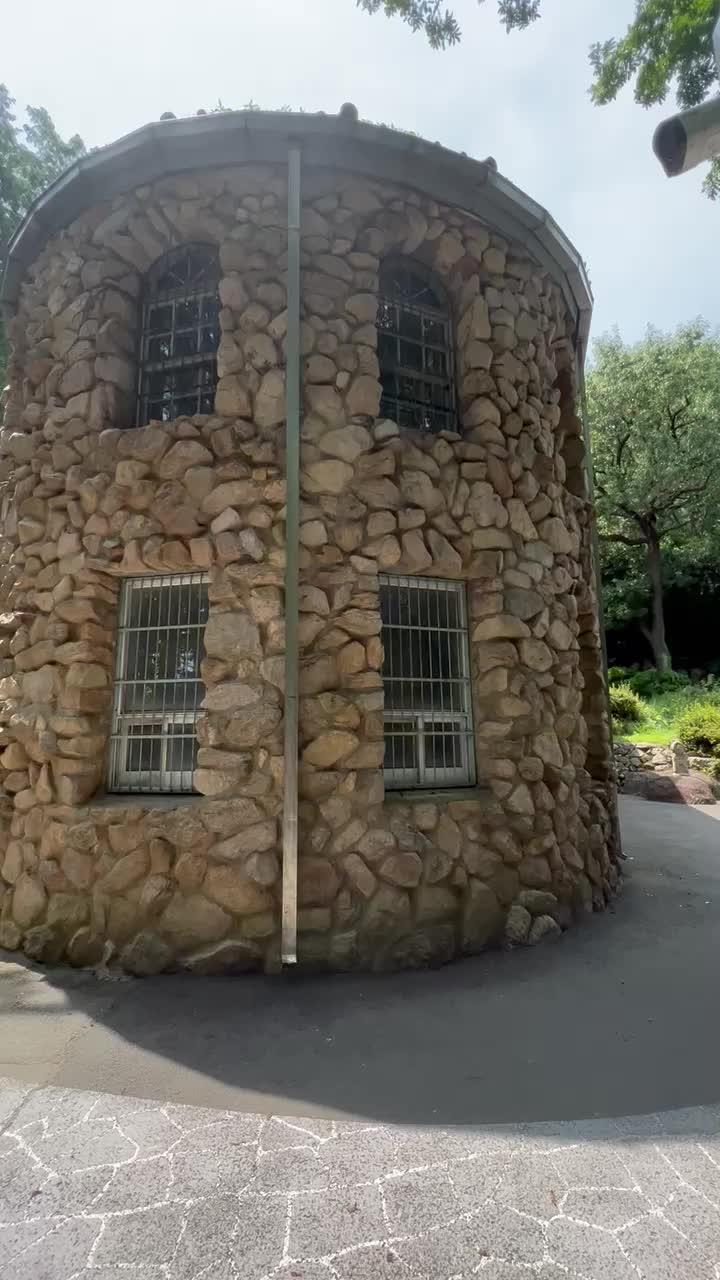building: (24, 86, 624, 968)
